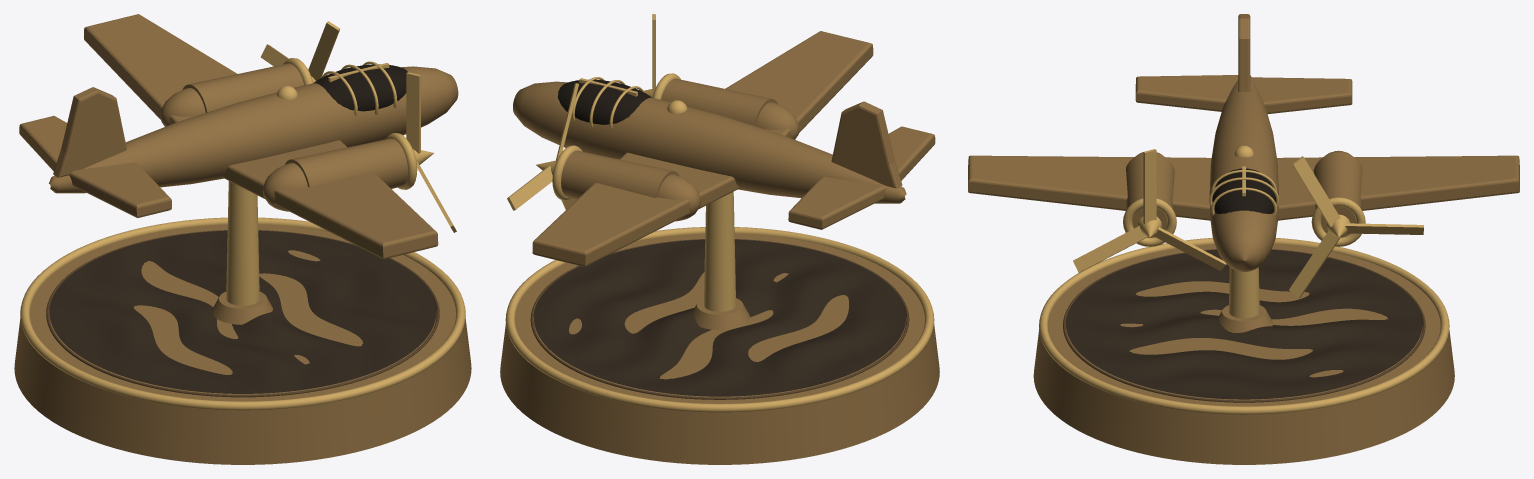
File: ch2-piece-bomber.glb
3 renders of one model, left to right at view 1: azimuth 30°, elevation 25°; view 2: azimuth 150°, elevation 25°; view 3: azimuth 270°, elevation 25°, orthographic. The views are drawn at different scales.
Visible parts, largest first — view 1: base_field, base_body, fuselage, wing_right, base_lip, wing_left, fin, pylon, nacelle_right, tailplane_right, nacelle_left, canopy (+8 smaller); view 2: base_field, base_body, fuselage, wing_left, base_lip, wing_right, fin, pylon, nacelle_left, tailplane_left, nacelle_right, canopy (+7 smaller); view 3: base_field, base_body, wing_right, wing_left, fuselage, base_lip, tailplane_right, tailplane_left, nacelle_left, canopy, nacelle_right, base_ring (+11 smaller).
Part boxes in pixels (box(x1,y1,x2,y2)): base_field: box(49, 230, 436, 393); base_body: box(14, 224, 471, 464); fuselage: box(49, 66, 458, 193); wing_right: box(222, 140, 438, 259); base_lip: box(20, 217, 465, 410); wing_left: box(84, 14, 237, 124); fin: box(53, 87, 126, 177); pylon: box(226, 181, 259, 305); nacelle_right: box(285, 138, 408, 188); tailplane_right: box(69, 162, 171, 217); nacelle_left: box(182, 63, 304, 112); canopy: box(313, 64, 408, 111); base_field: box(534, 239, 905, 396); base_body: box(500, 233, 939, 464); fuselage: box(513, 81, 906, 203); wing_left: box(532, 152, 739, 266); base_lip: box(505, 227, 934, 412); wing_right: box(725, 31, 873, 137); fin: box(831, 101, 902, 188); pylon: box(704, 191, 735, 311); nacelle_left: box(561, 151, 679, 199); tailplane_left: box(788, 176, 885, 229); nacelle_right: box(661, 78, 777, 126); canopy: box(557, 79, 651, 124); base_field: box(1066, 249, 1422, 399); base_body: box(1033, 244, 1454, 464); wing_right: box(968, 155, 1211, 220); wing_left: box(1277, 155, 1519, 220); fuselage: box(1209, 75, 1278, 271); base_lip: box(1039, 238, 1449, 414); tailplane_right: box(1135, 75, 1238, 111); tailplane_left: box(1250, 77, 1352, 113); nacelle_left: box(1313, 152, 1362, 237); canopy: box(1212, 168, 1276, 213); nacelle_right: box(1126, 153, 1174, 237); base_ring: box(1063, 249, 1425, 402).
Bounding box in the file's own units: 0.1673 × 0.1225 × 0.2105.
